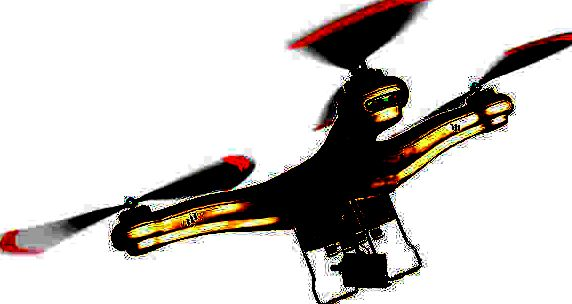Drone: (0, 2, 570, 303)
